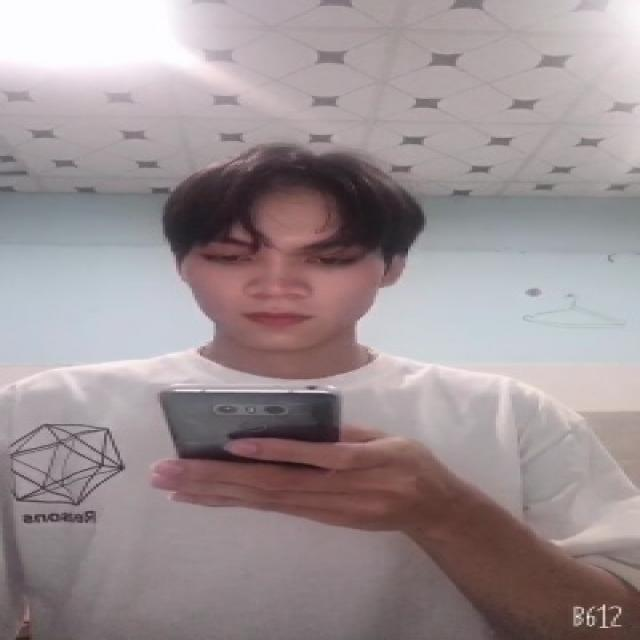Phone: (156, 383, 347, 461)
